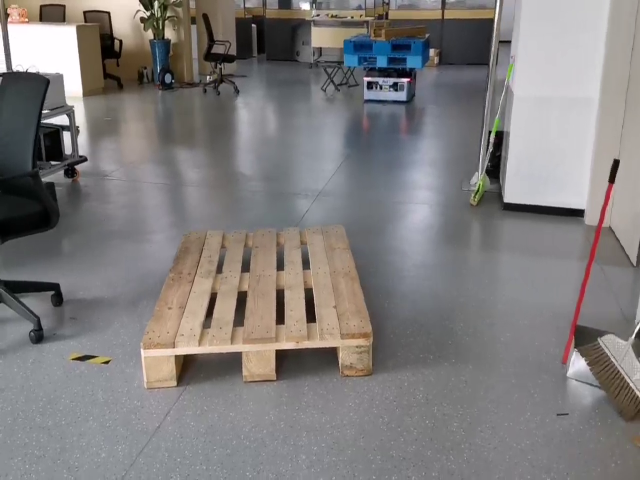block: (138, 347, 182, 392), (238, 341, 277, 386), (338, 336, 376, 377)
front: (138, 333, 383, 395)
hole pallet: (275, 348, 337, 379), (179, 353, 242, 382)
